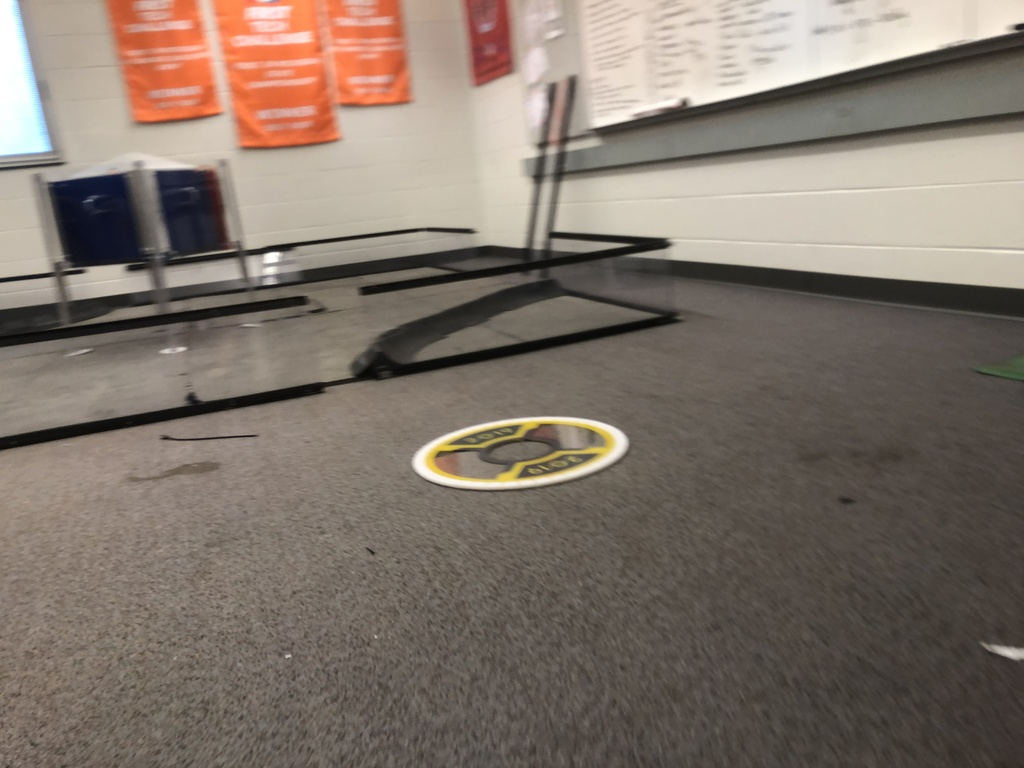hatch_panel: (407, 407, 646, 509)
